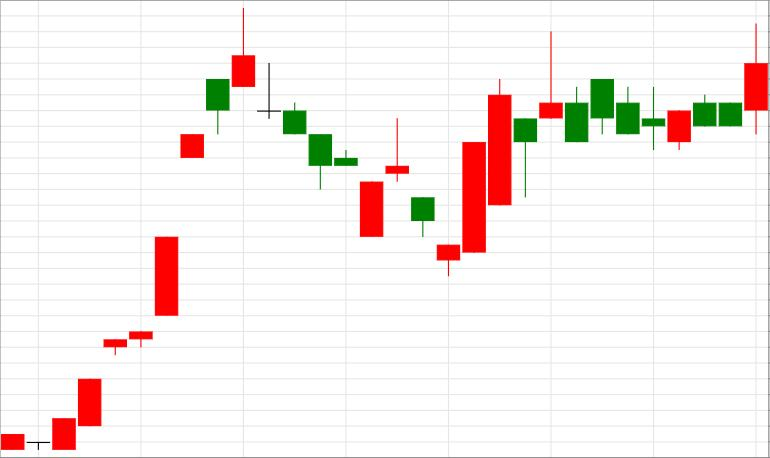shooting_star_fall: (53, 8, 255, 450)
